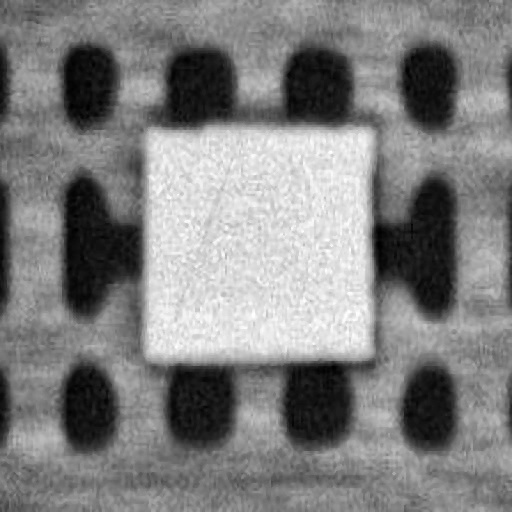DIE_CRACK: (255, 87, 358, 216)
